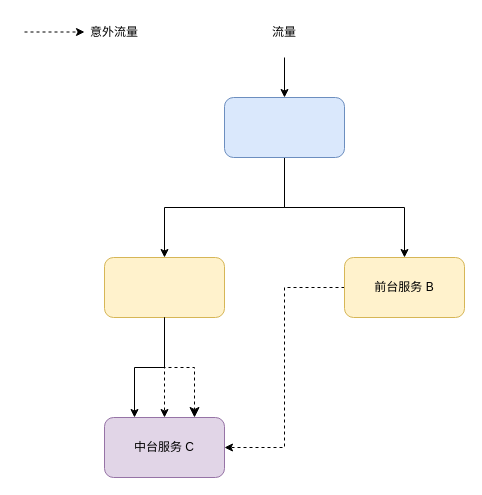
This 482x495 diagram has some shape labels left out. Here are the shapes that lost their labels. From the top down, the centre of each, then its label:
(284,127): 网关
(164,287): 前台服务 A
